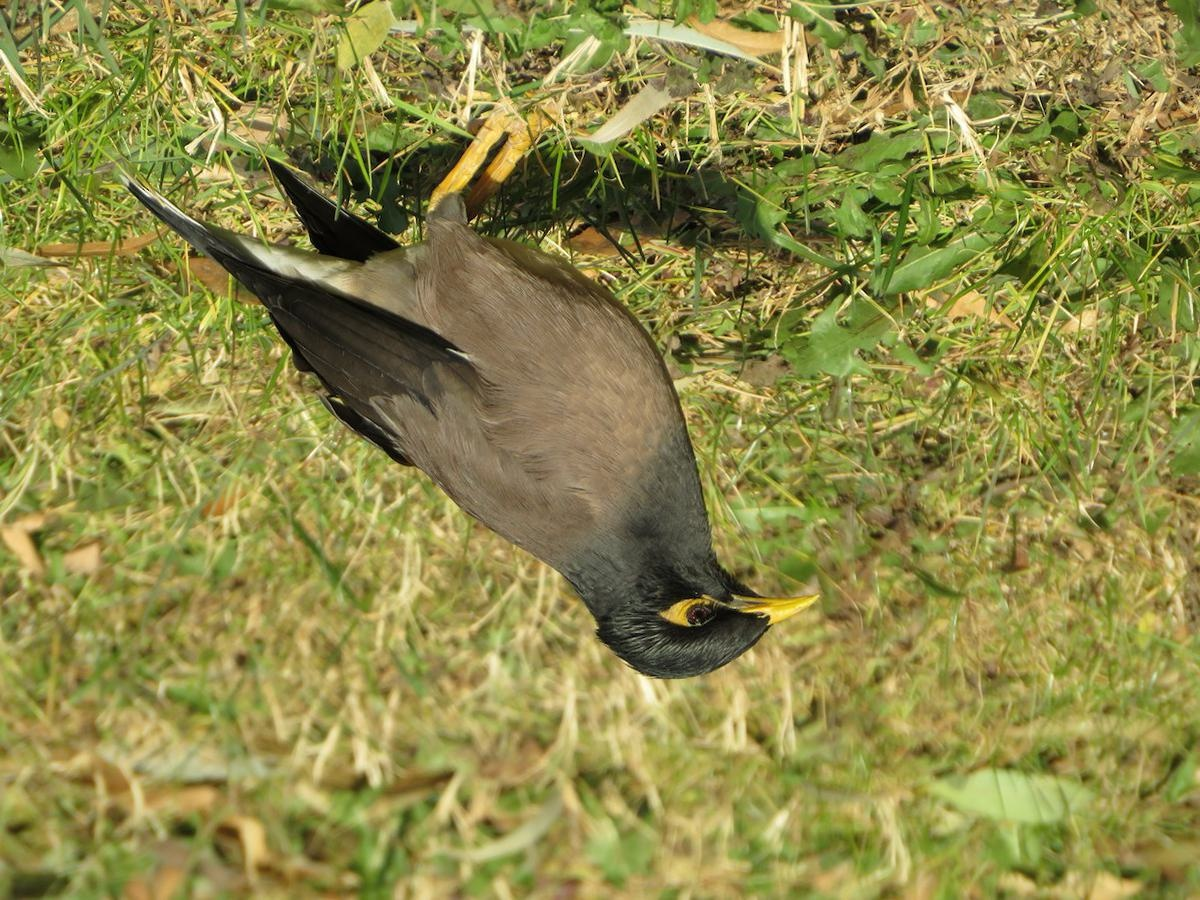myna: (229, 175, 869, 712)
